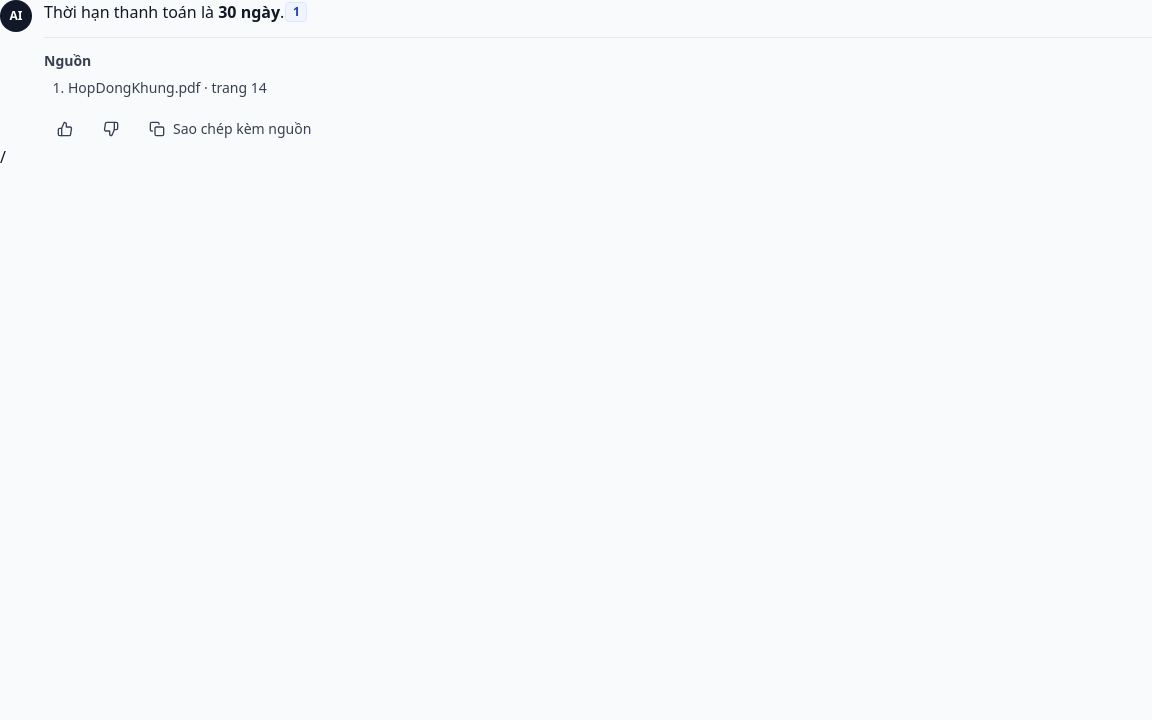
AnswerCard › trích dẫn tới tài liệu đã gỡ (410) → popover báo đã gỡ, không có nút mở
The image size is (1152, 720).
Click the button named "Nguồn 1": {"x": 296, "y": 12} [285,2,307,22]
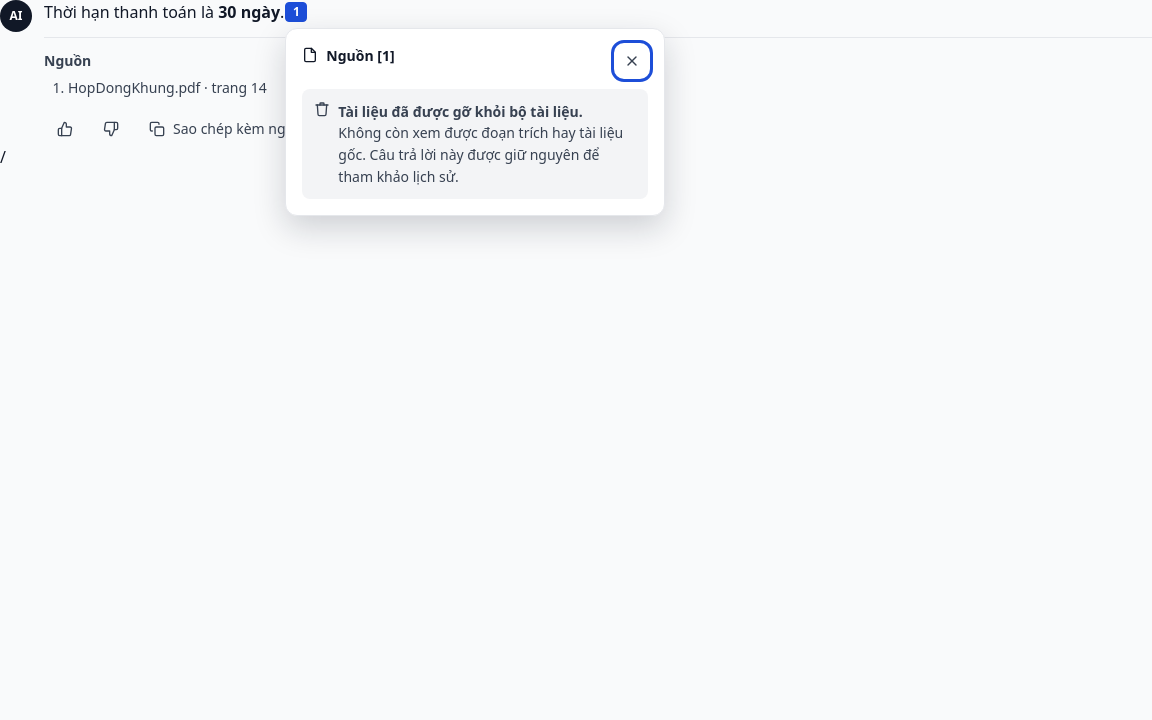
expect the text "Tài liệu đã được gỡ khỏi bộ tài liệu." is shown: met, box [338,102,583,120]
